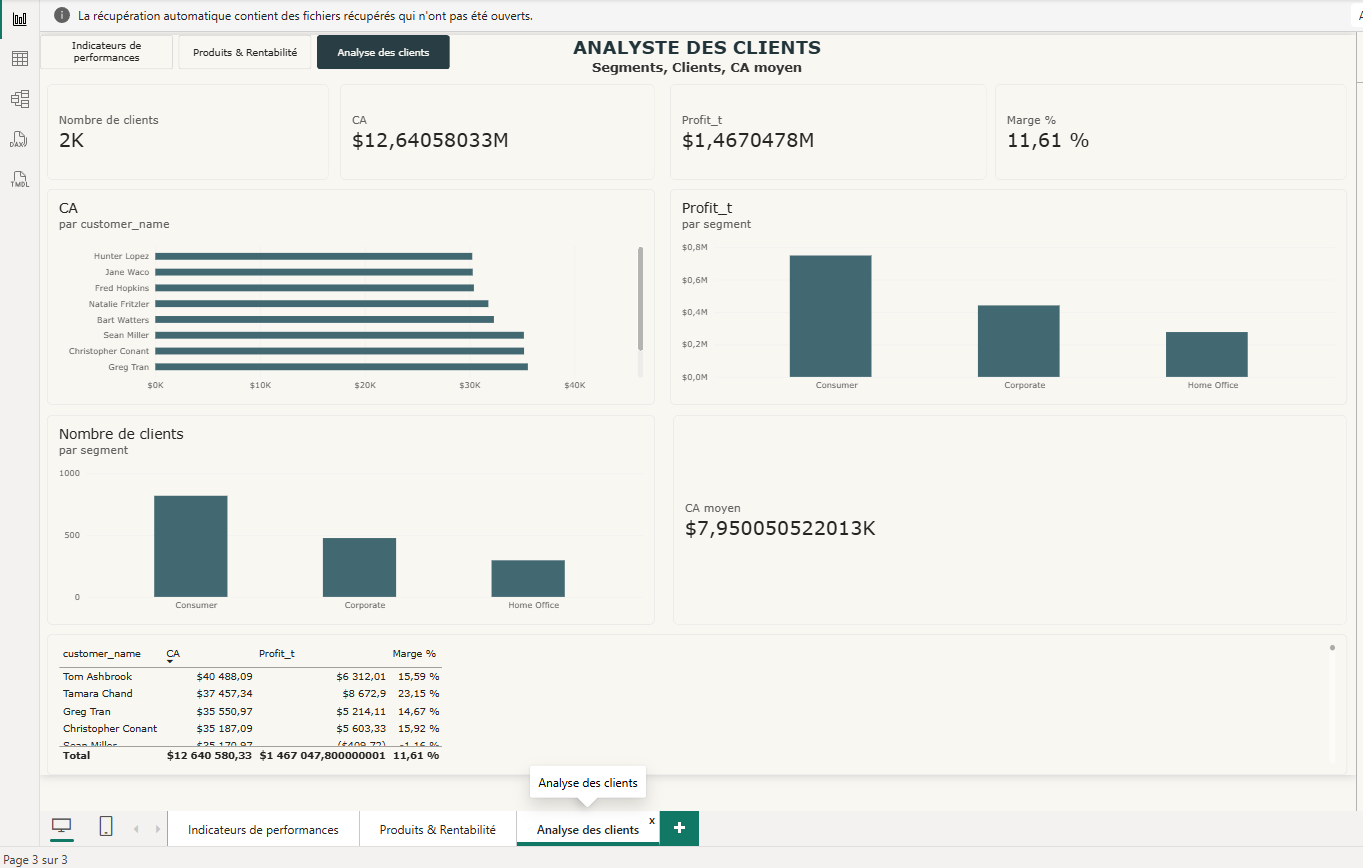

Layout of this report page (visuals, bound fields, positions):
{"tool":"powerbi","page":{"name":"Analyse des clients","canvas":[1920,1080],"ordinal":2},"visuals":[{"type":"cardVisual","fields":{"Data":["public superstore_clean.Nombre de clients"]},"box":[10.2,71.5,411.4,140.1],"z":0},{"type":"cardVisual","fields":{"Data":["public superstore_clean.CA"]},"box":[437.7,71.5,459.6,140.1],"z":1000},{"type":"cardVisual","fields":{"Data":["public superstore_clean.Marge %"]},"box":[1393.3,71.5,513.6,140.1],"z":4000},{"type":"clusteredColumnChart","fields":{"Category":["public superstore_clean.segment"],"Y":["public superstore_clean.Profit_t"]},"box":[919.1,224.7,987.7,315.1],"z":5000},{"type":"clusteredColumnChart","fields":{"Category":["public superstore_clean.segment"],"Y":["public superstore_clean.Nombre de clients"]},"box":[10.2,554.4,887.1,306.4],"z":6000},{"type":"clusteredBarChart","fields":{"Category":["public superstore_clean.customer_name"],"Y":["public superstore_clean.CA"]},"box":[10.2,224.7,887.1,315.1],"z":7000},{"type":"tableEx","fields":{"Values":["public superstore_clean.customer_name","public superstore_clean.CA","public superstore_clean.Profit_t","public superstore_clean.Marge %"]},"box":[10.2,873.9,1896.7,205.7],"z":8000},{"type":"cardVisual","fields":{"Data":["public superstore_clean.CA moyen"]},"box":[923.5,554.4,983.3,306.4],"z":9000},{"type":"textbox","title":"ANALYSTE DES CLIENTS","box":[10.2,0,1896.7,58.4],"z":10000},{"type":"cardVisual","fields":{"Data":["public superstore_clean.Profit_t"]},"box":[919.1,71.5,462.5,140.1],"z":10001},{"type":"pageNavigator","box":[0,0,600,50],"z":10002}]}

Visuals, with their boxes on the page's 1920x1080 design canvas (x1, y1, x2, y2). These are canvas units, not pixel positions in the 1363x868 screenshot, which may show the page scaled, cropped or inside an application window:
cardVisual - public superstore_clean.Nombre de clients: (x1=10, y1=72, x2=422, y2=212)
cardVisual - public superstore_clean.CA: (x1=438, y1=72, x2=897, y2=212)
cardVisual - public superstore_clean.Marge %: (x1=1393, y1=72, x2=1907, y2=212)
clusteredColumnChart - public superstore_clean.segment x public superstore_clean.Profit_t: (x1=919, y1=225, x2=1907, y2=540)
clusteredColumnChart - public superstore_clean.segment x public superstore_clean.Nombre de clients: (x1=10, y1=554, x2=897, y2=861)
clusteredBarChart - public superstore_clean.customer_name x public superstore_clean.CA: (x1=10, y1=225, x2=897, y2=540)
tableEx - public superstore_clean.customer_name x public superstore_clean.CA: (x1=10, y1=874, x2=1907, y2=1080)
cardVisual - public superstore_clean.CA moyen: (x1=924, y1=554, x2=1907, y2=861)
"ANALYSTE DES CLIENTS" textbox: (x1=10, y1=0, x2=1907, y2=58)
cardVisual - public superstore_clean.Profit_t: (x1=919, y1=72, x2=1382, y2=212)
pageNavigator: (x1=0, y1=0, x2=600, y2=50)
